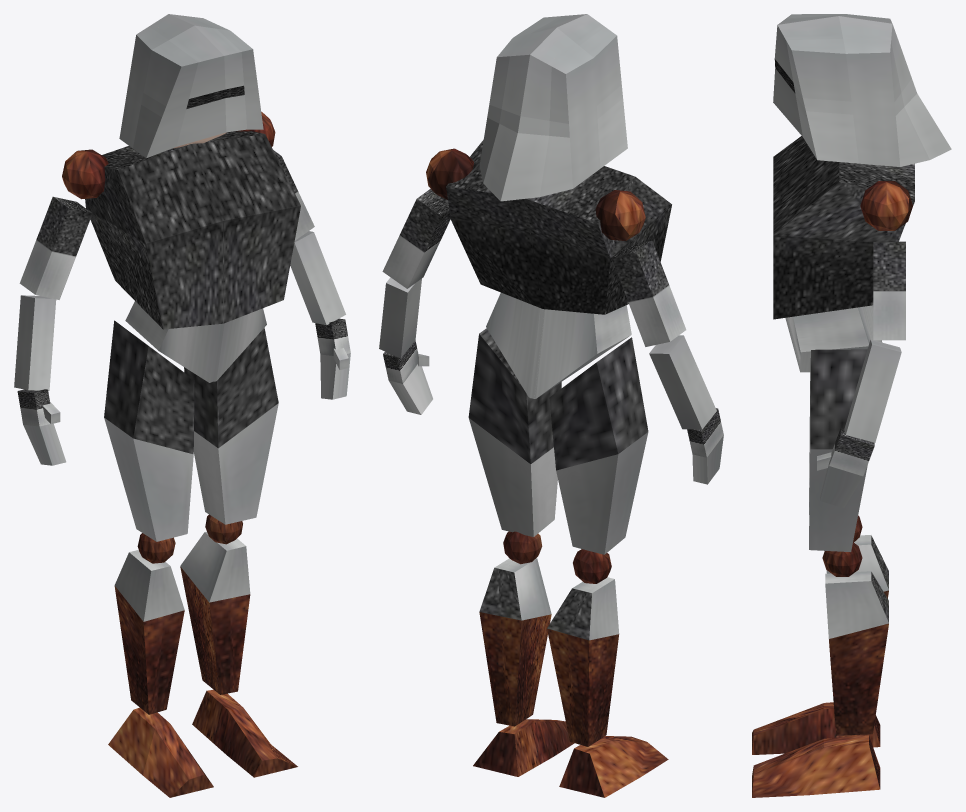
Rendered from player.glb.
3 renders of one model, left to right at view 1: azimuth 30°, elevation 25°; view 2: azimuth 150°, elevation 25°; view 3: azimuth 270°, elevation 25°, orthographic. The views are drawn at different scales.
Parts seen in each view (by area): view 1: Chest, Cube.049, RightThigh, LeftThigh, LeftShin, RightShin, Pelvis, RightFoot, RightBicep, LeftFoot, RightForearm, LeftForearm (+6 smaller); view 2: Cube.049, Chest, RightThigh, LeftThigh, LeftShin, RightShin, Pelvis, RightBicep, RightFoot, LeftBicep, LeftFoot, RightForearm (+7 smaller); view 3: Cube.049, Chest, LeftShin, LeftThigh, LeftFoot, Pelvis, LeftForearm, LeftBicep, RightFoot, LeftHand, LeftShoulder, RightShin (+1 smaller).
Boxes of the visible parts, x1,y1,x2,y2 form: Chest: [85, 131, 300, 329]; Cube.049: [119, 14, 263, 157]; RightThigh: [104, 320, 194, 541]; LeftThigh: [184, 328, 278, 524]; LeftShin: [180, 531, 250, 694]; RightShin: [114, 550, 184, 714]; Pelvis: [125, 301, 266, 382]; RightFoot: [108, 707, 213, 797]; RightBicep: [19, 196, 92, 299]; LeftFoot: [192, 689, 297, 777]; RightForearm: [14, 295, 56, 390]; LeftForearm: [290, 231, 345, 325]; Cube.049: [479, 14, 627, 201]; Chest: [446, 140, 671, 314]; RightThigh: [549, 337, 648, 554]; LeftThigh: [468, 328, 561, 536]; LeftShin: [479, 558, 551, 726]; RightShin: [547, 577, 619, 746]; Pelvis: [486, 292, 631, 398]; RightBicep: [611, 240, 686, 346]; RightFoot: [559, 736, 668, 797]; LeftBicep: [382, 189, 450, 288]; LeftFoot: [473, 719, 574, 776]; RightForearm: [649, 335, 716, 429]; Cube.049: [773, 14, 951, 166]; Chest: [773, 136, 914, 319]; LeftShin: [825, 571, 888, 735]; LeftThigh: [809, 349, 867, 551]; LeftFoot: [752, 735, 880, 797]; Pelvis: [785, 305, 882, 372]; LeftForearm: [844, 339, 901, 442]; LeftBicep: [873, 241, 905, 340]; RightFoot: [752, 702, 880, 754]; LeftHand: [820, 428, 874, 508]; LeftShoulder: [860, 181, 912, 230]; RightShin: [826, 535, 888, 598].
Size of the model in its own units: 1.76 by 3.86 by 0.9303.
1 material, 1 textured.
